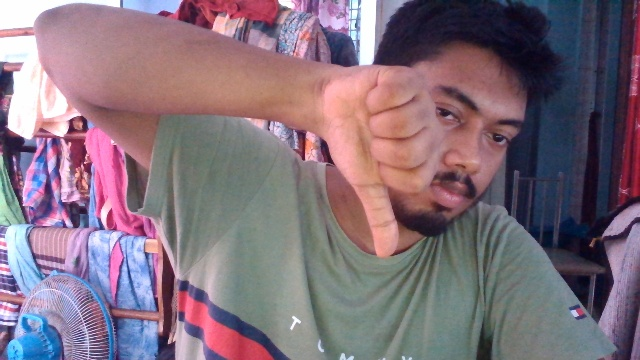no: (312, 43, 445, 264)
